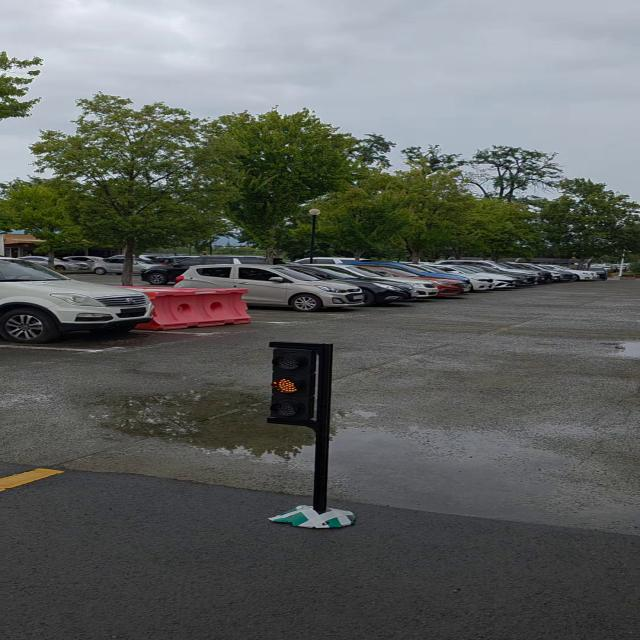yellow: (274, 346, 320, 423)
